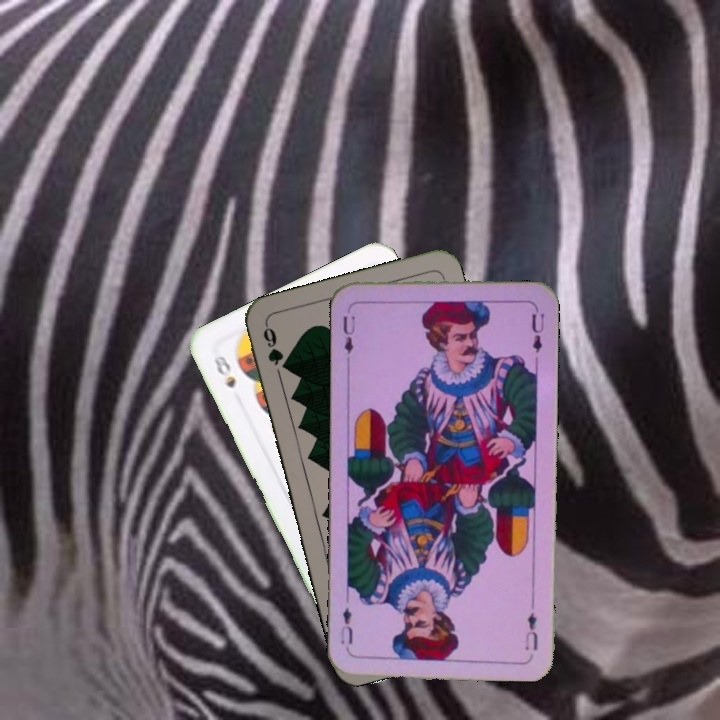EU: (338, 311, 357, 363), (521, 609, 540, 653)
G9: (259, 321, 285, 379)
S8: (207, 349, 239, 391)
